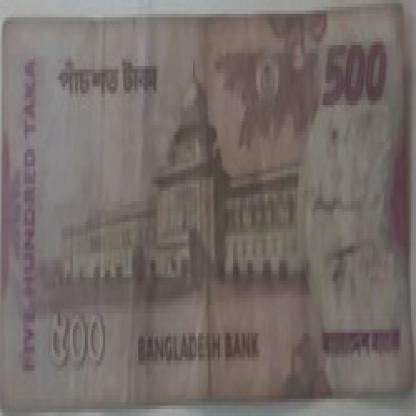500 taka: (50, 52, 176, 118), (314, 38, 398, 111), (45, 308, 120, 385)
